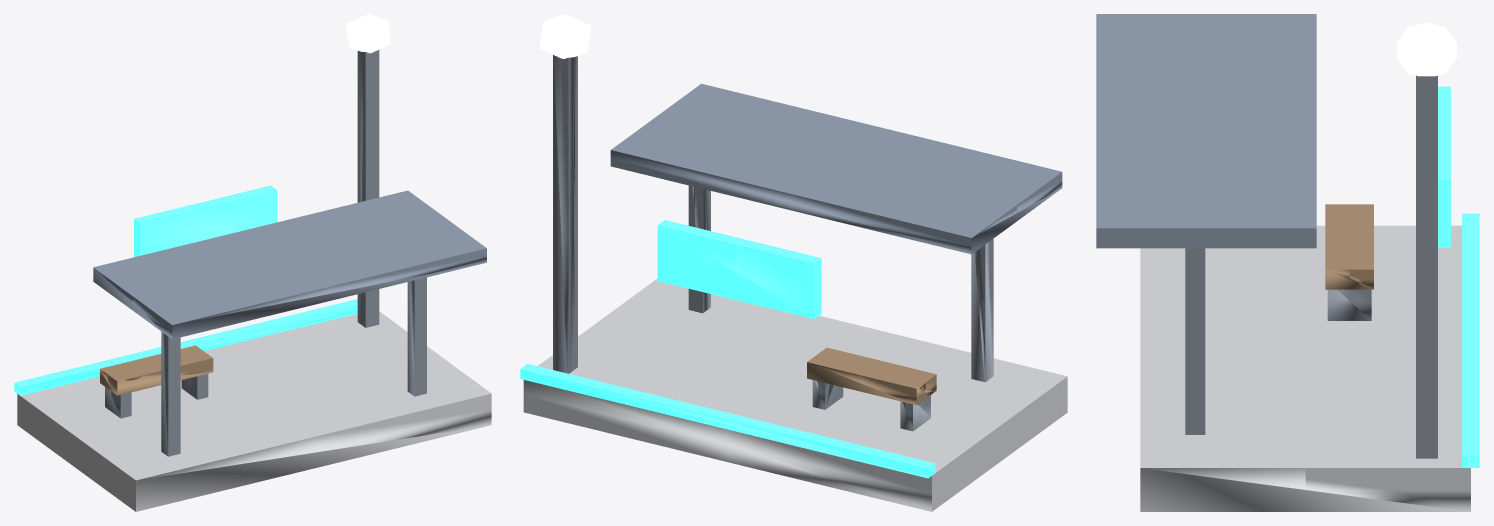
Rendered from station.glb.
3 renders of one model, left to right at view 1: azimuth 30°, elevation 25°; view 2: azimuth 150°, elevation 25°; view 3: azimuth 270°, elevation 25°, orthographic. The views are drawn at different scales.
Parts seen in each view (by area): view 1: MetroStation; view 2: MetroStation; view 3: MetroStation.
Boxes of the visible parts, box(x1,y1,x2,y2) form: MetroStation: box(14, 14, 491, 511); MetroStation: box(520, 14, 1067, 511); MetroStation: box(1096, 14, 1479, 511).
Bounding box in the file's own units: 2.6 × 2.38 × 1.74.
